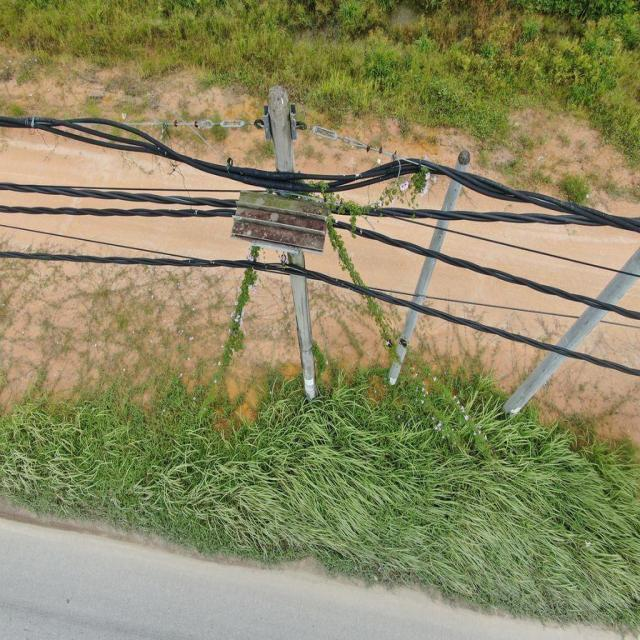critical vegetation: (324, 224, 494, 458), (193, 239, 262, 426), (310, 158, 432, 218)
